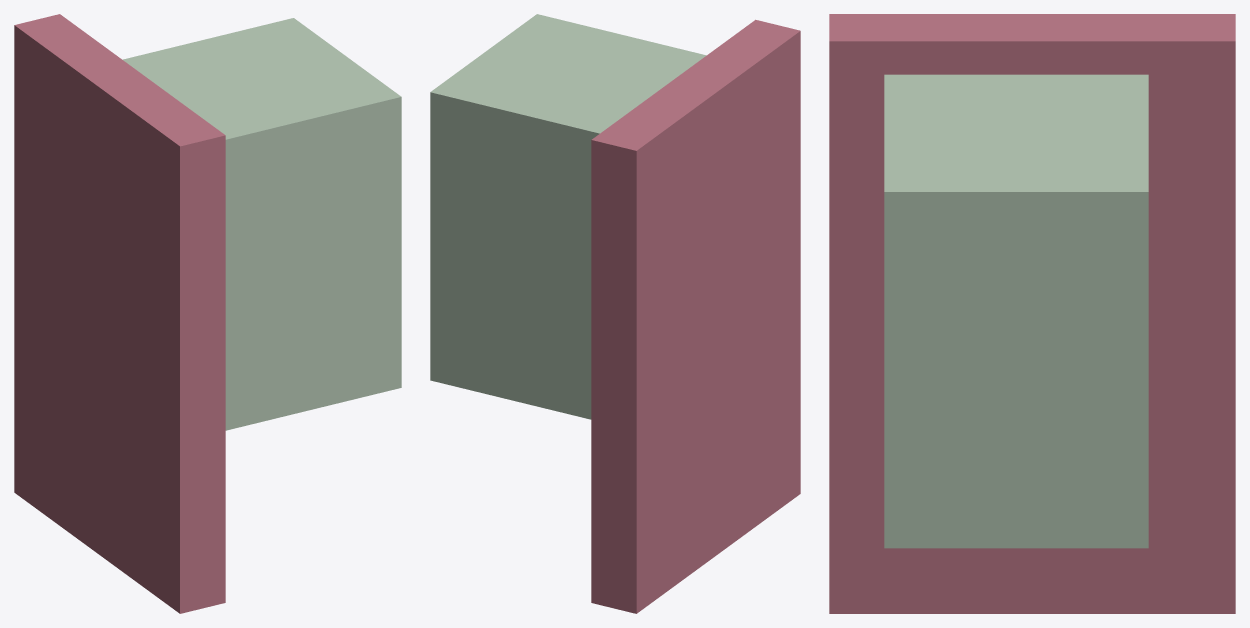
The picture shows the model from 3 angles, left to right: view 1: azimuth 30°, elevation 25°; view 2: azimuth 150°, elevation 25°; view 3: azimuth 270°, elevation 25°; orthographic projection. The views are drawn at different scales.
Parts seen in each view (by area): view 1: world; view 2: world; view 3: world.
Boxes of the visible parts, box(x1,y1,x2,y2) form: world: box(14, 14, 401, 613); world: box(430, 14, 800, 613); world: box(829, 14, 1235, 613).
Bounding box in the file's own units: 5.35 × 9.8 × 6.3.
